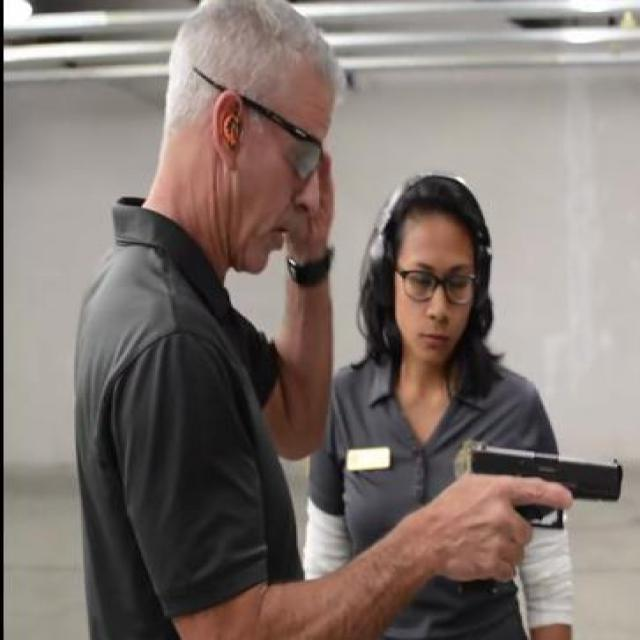gun: (452, 436, 622, 594)
